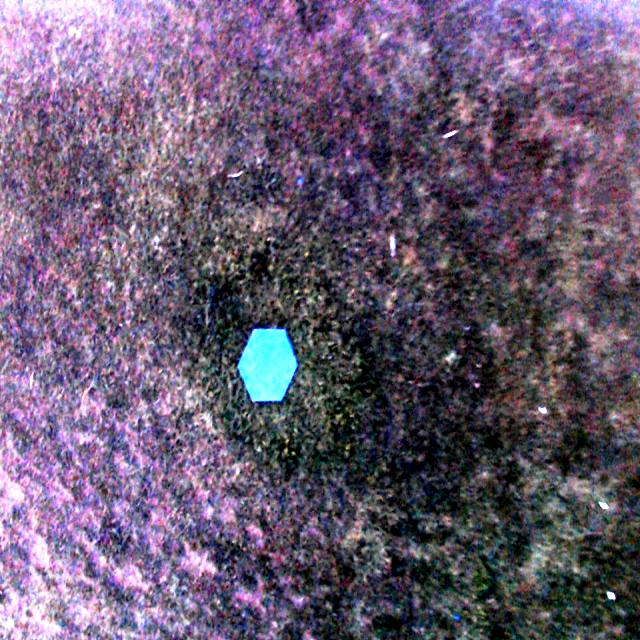blue_hexagon: (236, 329, 298, 403)
